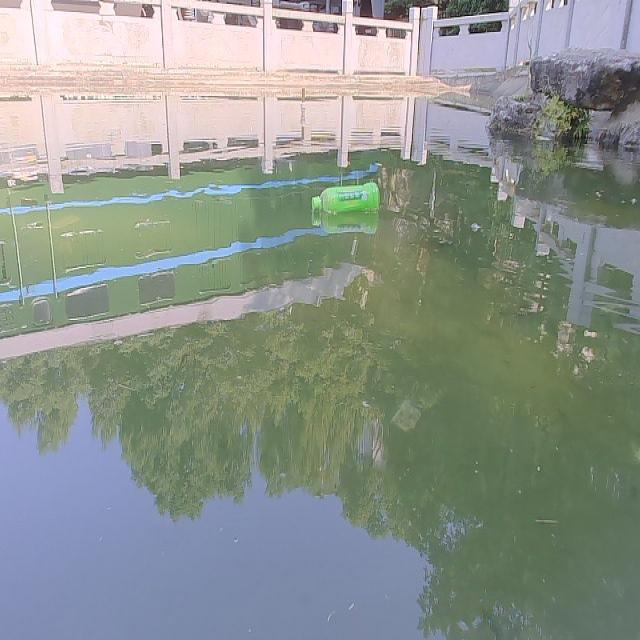bottle: (304, 175, 382, 216)
